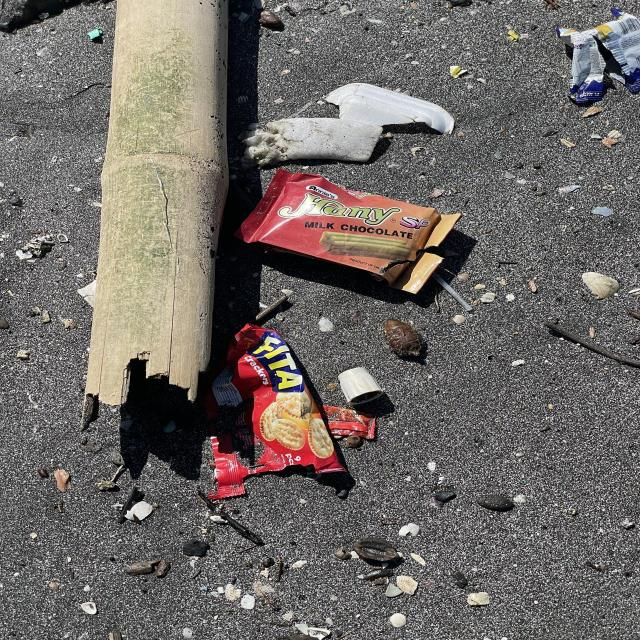plastic_waste: (236, 175, 467, 297), (210, 323, 354, 499), (556, 8, 640, 103)
styrofoam_waste: (323, 83, 459, 136)
